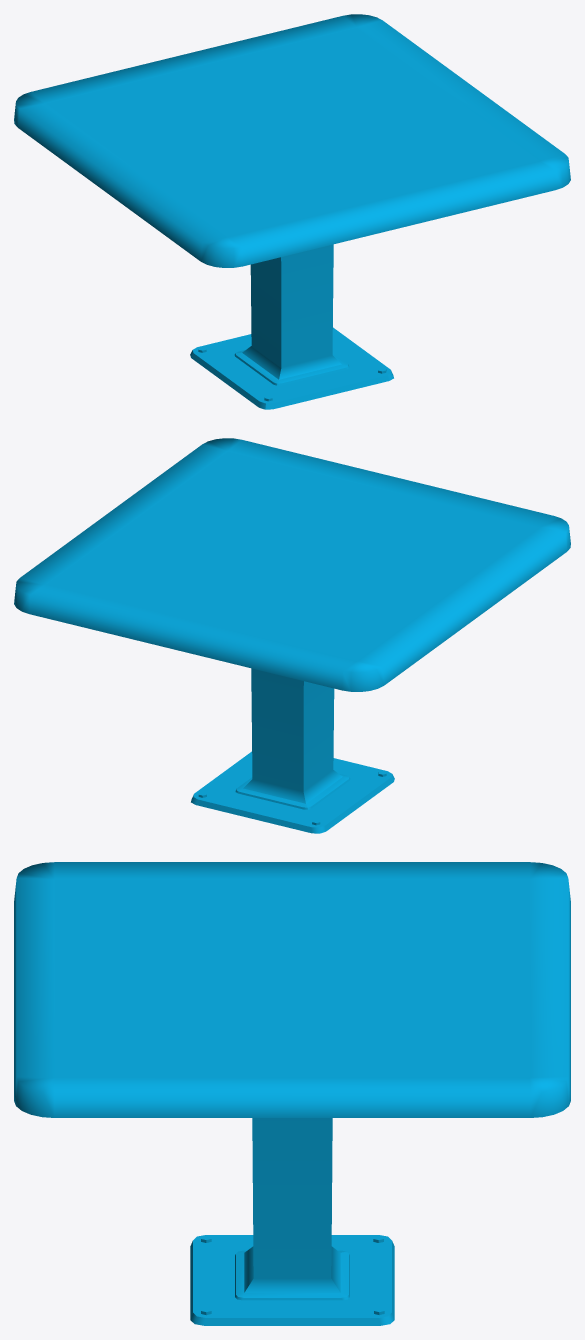
Rendered from Restaurant_Table_01_Lod0.fbx.
The picture shows the model from 3 angles, top to bottom: view 1: azimuth 30°, elevation 25°; view 2: azimuth 150°, elevation 25°; view 3: azimuth 270°, elevation 25°; orthographic projection. The views are drawn at different scales.
Visible parts, largest first — view 1: Restaurant_Table_01_Lod0; view 2: Restaurant_Table_01_Lod0; view 3: Restaurant_Table_01_Lod0.
Boxes of the visible parts, box(x1,y1,x2,y2) form: Restaurant_Table_01_Lod0: box(14, 14, 570, 409); Restaurant_Table_01_Lod0: box(14, 438, 570, 833); Restaurant_Table_01_Lod0: box(14, 862, 570, 1325).
Bounding box in the file's own units: 120 × 73.76 × 122.
